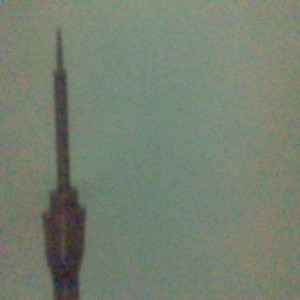solder: (41, 27, 87, 300)
